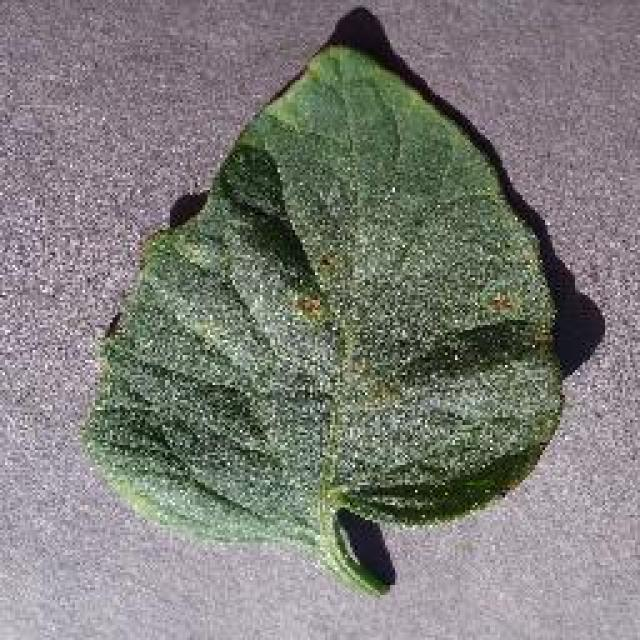Tom_Target_Spot: (299, 349, 425, 435), (265, 230, 353, 338), (473, 265, 528, 326)
